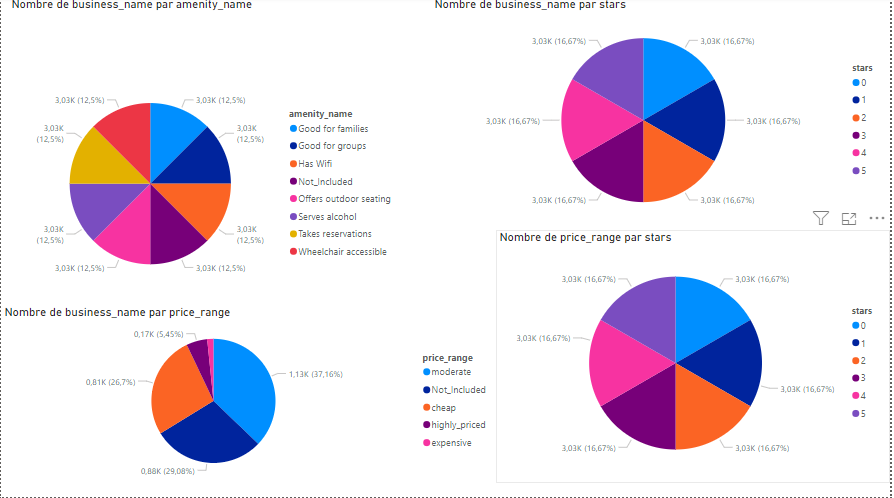

The page's visual inventory and layout, read from the dashboard file:
{"tool":"powerbi","page":{"name":"Page 4","canvas":[1280,720],"ordinal":0},"visuals":[{"type":"pieChart","fields":{"Category":["public dim_amenity.amenity_name"],"Y":["CountNonNull(public dim_business.business_name)"]},"box":[10,0,565.7,518.6],"z":0},{"type":"pieChart","fields":{"Category":["public dim_stars.stars"],"Y":["CountNonNull(public dim_business.business_name)"]},"box":[618.6,0,661.4,335.7],"z":1},{"type":"pieChart","fields":{"Category":["public dim_business.price_range"],"Y":["CountNonNull(public dim_business.business_name)"]},"box":[0,442.9,712.9,257.1],"z":2},{"type":"pieChart","fields":{"Category":["public dim_stars.stars"],"Y":["CountNonNull(public dim_business.price_range)"]},"box":[712.9,335.7,567.1,364.3],"z":3}]}

Visuals, with their boxes in screenshot pixels (x1, y1, x2, y2), scaled from the page's 1280x720 canvas onto the 894x498 screenshot:
pieChart - public dim_amenity.amenity_name x CountNonNull(public dim_business.business_name): (left=7, top=0, right=402, bottom=359)
pieChart - public dim_stars.stars x CountNonNull(public dim_business.business_name): (left=432, top=0, right=893, bottom=232)
pieChart - public dim_business.price_range x CountNonNull(public dim_business.business_name): (left=0, top=306, right=498, bottom=484)
pieChart - public dim_stars.stars x CountNonNull(public dim_business.price_range): (left=498, top=232, right=893, bottom=484)
